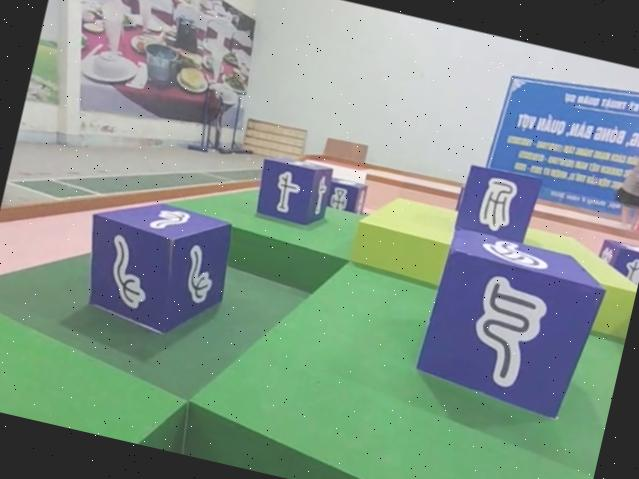R2 Fake Blue: (408, 222, 610, 425), (451, 160, 543, 248)
R2 Real Blue: (67, 189, 235, 348), (249, 152, 335, 233), (594, 237, 639, 287), (323, 177, 370, 217)
